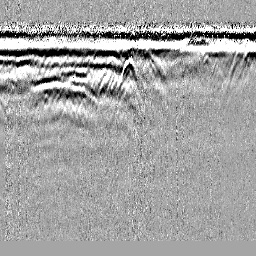cavity: (117, 56, 140, 91)
